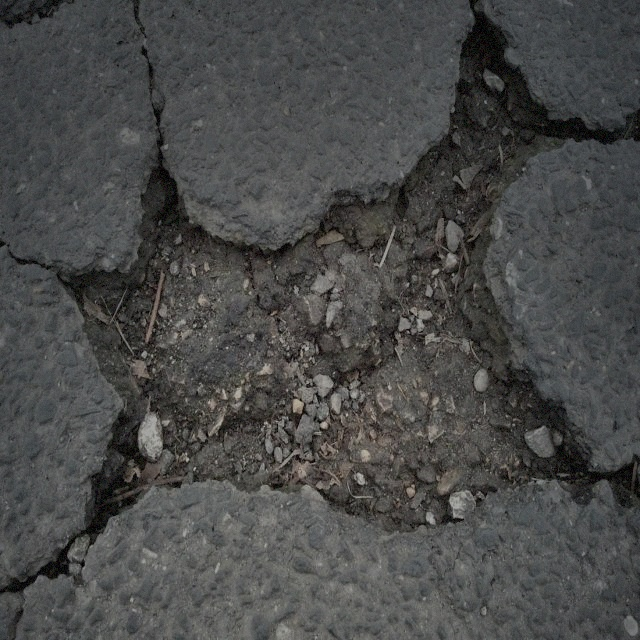pothole: (62, 33, 592, 542)
